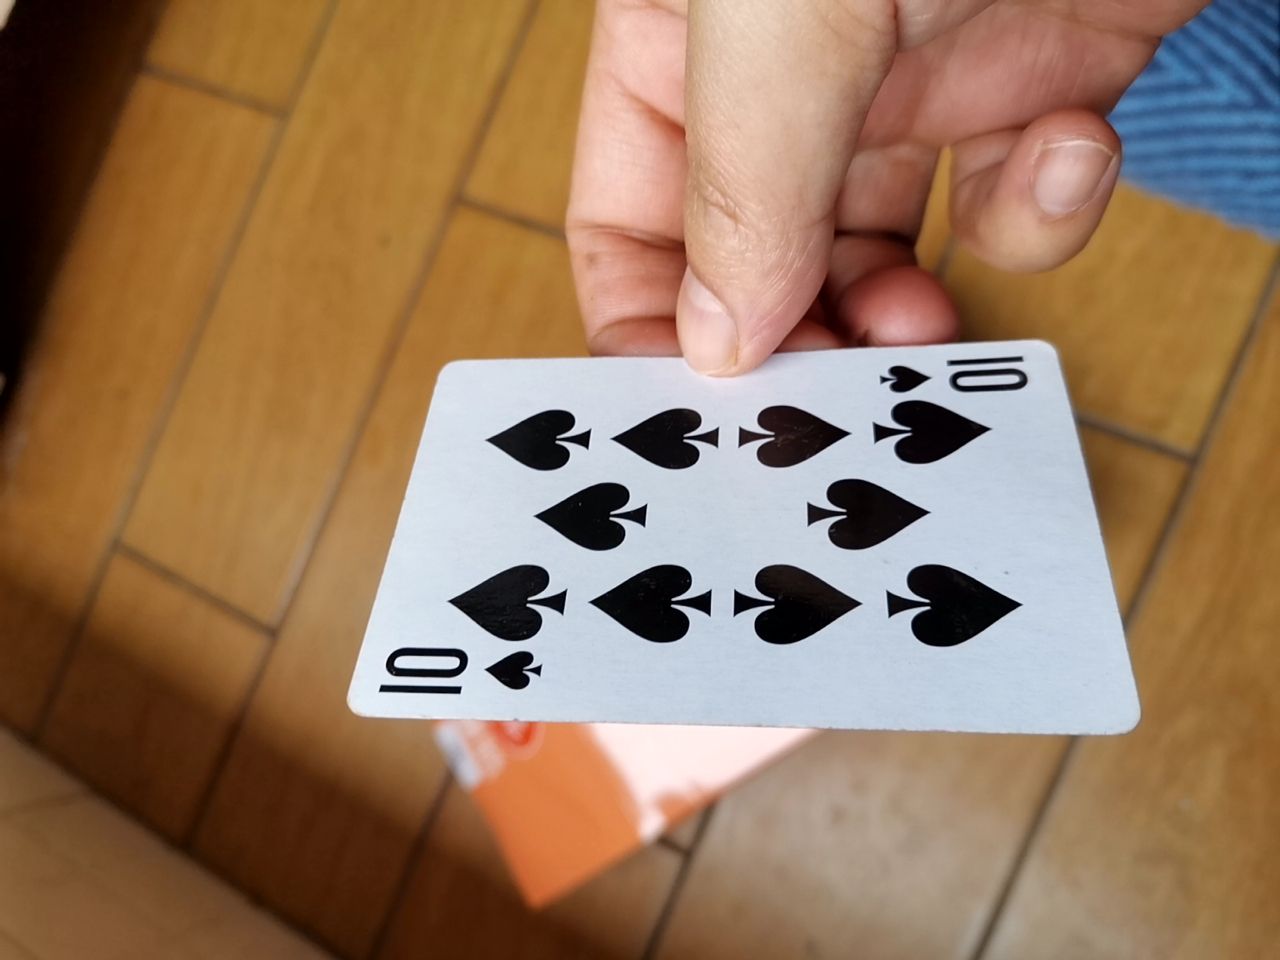ht 10: (350, 330, 1128, 756)
